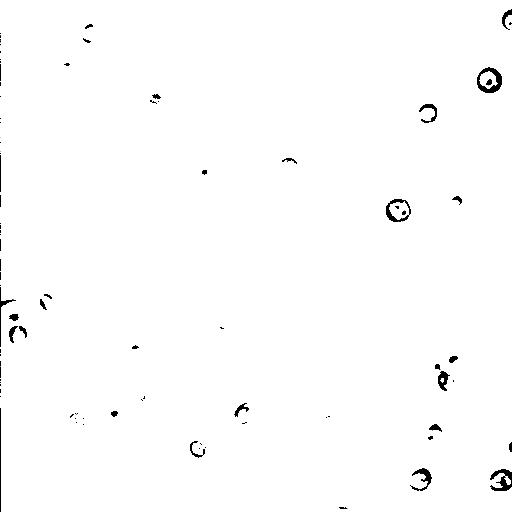micro-algae: (1, 251, 35, 313), (443, 477, 505, 511), (308, 33, 348, 74), (382, 16, 420, 53), (91, 17, 127, 55), (385, 267, 417, 303), (131, 385, 163, 417), (440, 342, 471, 373), (119, 333, 150, 362), (477, 66, 505, 95), (99, 400, 125, 431), (383, 197, 411, 224), (230, 399, 257, 425), (2, 303, 27, 328), (54, 57, 81, 79), (487, 468, 511, 492), (276, 156, 301, 179), (187, 161, 213, 183), (409, 468, 433, 491), (66, 412, 85, 439), (7, 323, 29, 346), (437, 371, 458, 393), (79, 22, 99, 45), (103, 264, 126, 283), (419, 101, 437, 125), (38, 293, 57, 312), (424, 423, 443, 441), (499, 7, 511, 31), (189, 439, 205, 457), (447, 195, 465, 209)
